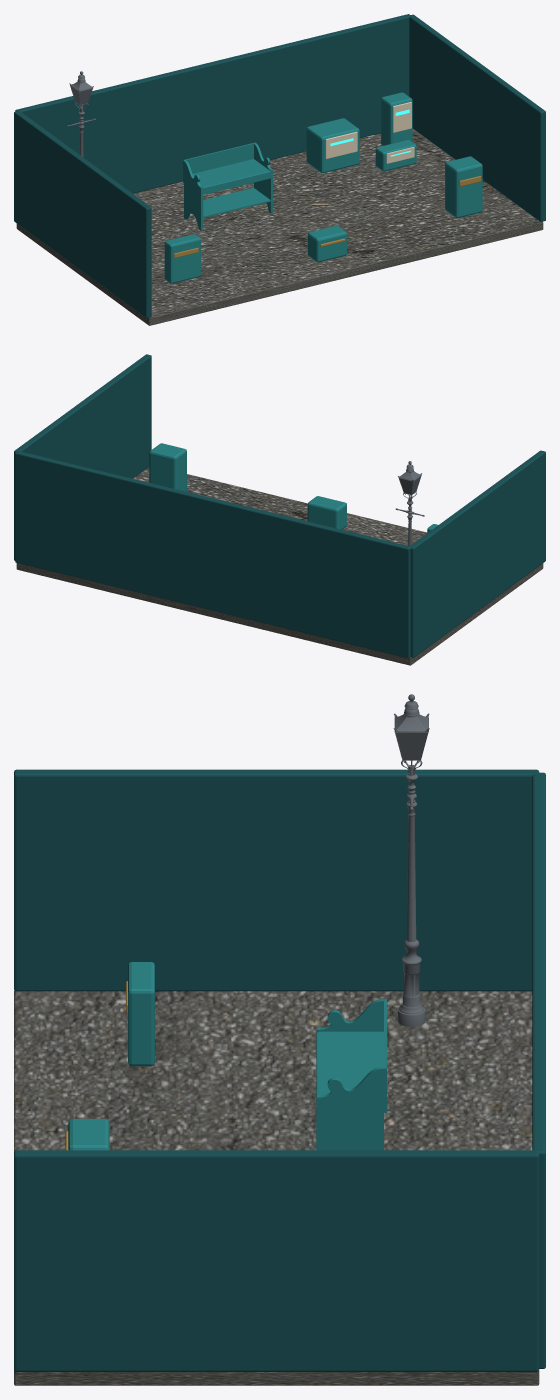
File: location_transit_pocket_v3.glb
3 views of the same model, one above another, from view 1: azimuth 30°, elevation 25°; view 2: azimuth 150°, elevation 25°; view 3: azimuth 270°, elevation 25° (orthographic). The views are drawn at different scales.
Visible parts, largest first — view 1: location_transit_pocket_v3_FLOOR, location_transit_pocket_v3_BACK, location_transit_pocket_v3_LEFT, location_transit_pocket_v3_RIGHT, painted_wooden_bench.001, STREET_PLANTER_BODY.001, STREET_TRANSIT_MAP_BODY.001, STREET_TRASH_RECYCLING_BODY.001, STREET_BOLLARD_SET_BODY.001, STREET_SIGNPOST_BODY.001, street_lamp_01.001, STREET_NEWSPAPER_BOX_BODY.001 (+2 smaller); view 2: location_transit_pocket_v3_BACK, location_transit_pocket_v3_LEFT, location_transit_pocket_v3_RIGHT, location_transit_pocket_v3_FLOOR, STREET_PLANTER_BODY.001, STREET_BOLLARD_SET_BODY.001, street_lamp_01.001; view 3: location_transit_pocket_v3_RIGHT, location_transit_pocket_v3_LEFT, location_transit_pocket_v3_FLOOR, painted_wooden_bench.001, location_transit_pocket_v3_BACK, street_lamp_01.001, STREET_TRASH_RECYCLING_BODY.001, STREET_BOLLARD_SET_BODY.001.
Boxes of the visible parts, box(x1,y1,x2,y2) form: location_transit_pocket_v3_FLOOR: box(16, 129, 543, 325); location_transit_pocket_v3_BACK: box(15, 14, 410, 193); location_transit_pocket_v3_LEFT: box(14, 111, 151, 317); location_transit_pocket_v3_RIGHT: box(409, 14, 545, 221); painted_wooden_bench.001: box(183, 142, 272, 230); STREET_PLANTER_BODY.001: box(445, 156, 482, 218); STREET_TRANSIT_MAP_BODY.001: box(306, 118, 359, 173); STREET_TRASH_RECYCLING_BODY.001: box(164, 234, 200, 283); STREET_BOLLARD_SET_BODY.001: box(307, 225, 346, 262); STREET_SIGNPOST_BODY.001: box(381, 92, 412, 145); street_lamp_01.001: box(67, 71, 95, 156); STREET_NEWSPAPER_BOX_BODY.001: box(375, 140, 416, 171); location_transit_pocket_v3_BACK: box(15, 451, 410, 658); location_transit_pocket_v3_LEFT: box(410, 450, 545, 657); location_transit_pocket_v3_RIGHT: box(14, 354, 151, 560); location_transit_pocket_v3_FLOOR: box(16, 467, 543, 665); STREET_PLANTER_BODY.001: box(149, 443, 186, 491); STREET_BOLLARD_SET_BODY.001: box(307, 496, 346, 529); street_lamp_01.001: box(395, 461, 424, 546); location_transit_pocket_v3_RIGHT: box(14, 1150, 539, 1371); location_transit_pocket_v3_LEFT: box(14, 769, 539, 991); location_transit_pocket_v3_FLOOR: box(14, 990, 539, 1385); painted_wooden_bench.001: box(316, 999, 386, 1150); location_transit_pocket_v3_BACK: box(532, 772, 545, 1368); street_lamp_01.001: box(393, 694, 429, 1026); STREET_TRASH_RECYCLING_BODY.001: box(128, 962, 154, 1066); STREET_BOLLARD_SET_BODY.001: box(68, 1119, 109, 1150).
Bounding box in the file's own units: 12.18 × 5.04 × 7.09.
Materials: 8 (1 with a texture image).
